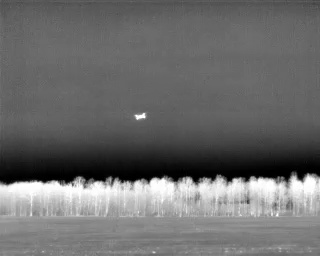DRONE: (131, 108, 152, 125)
